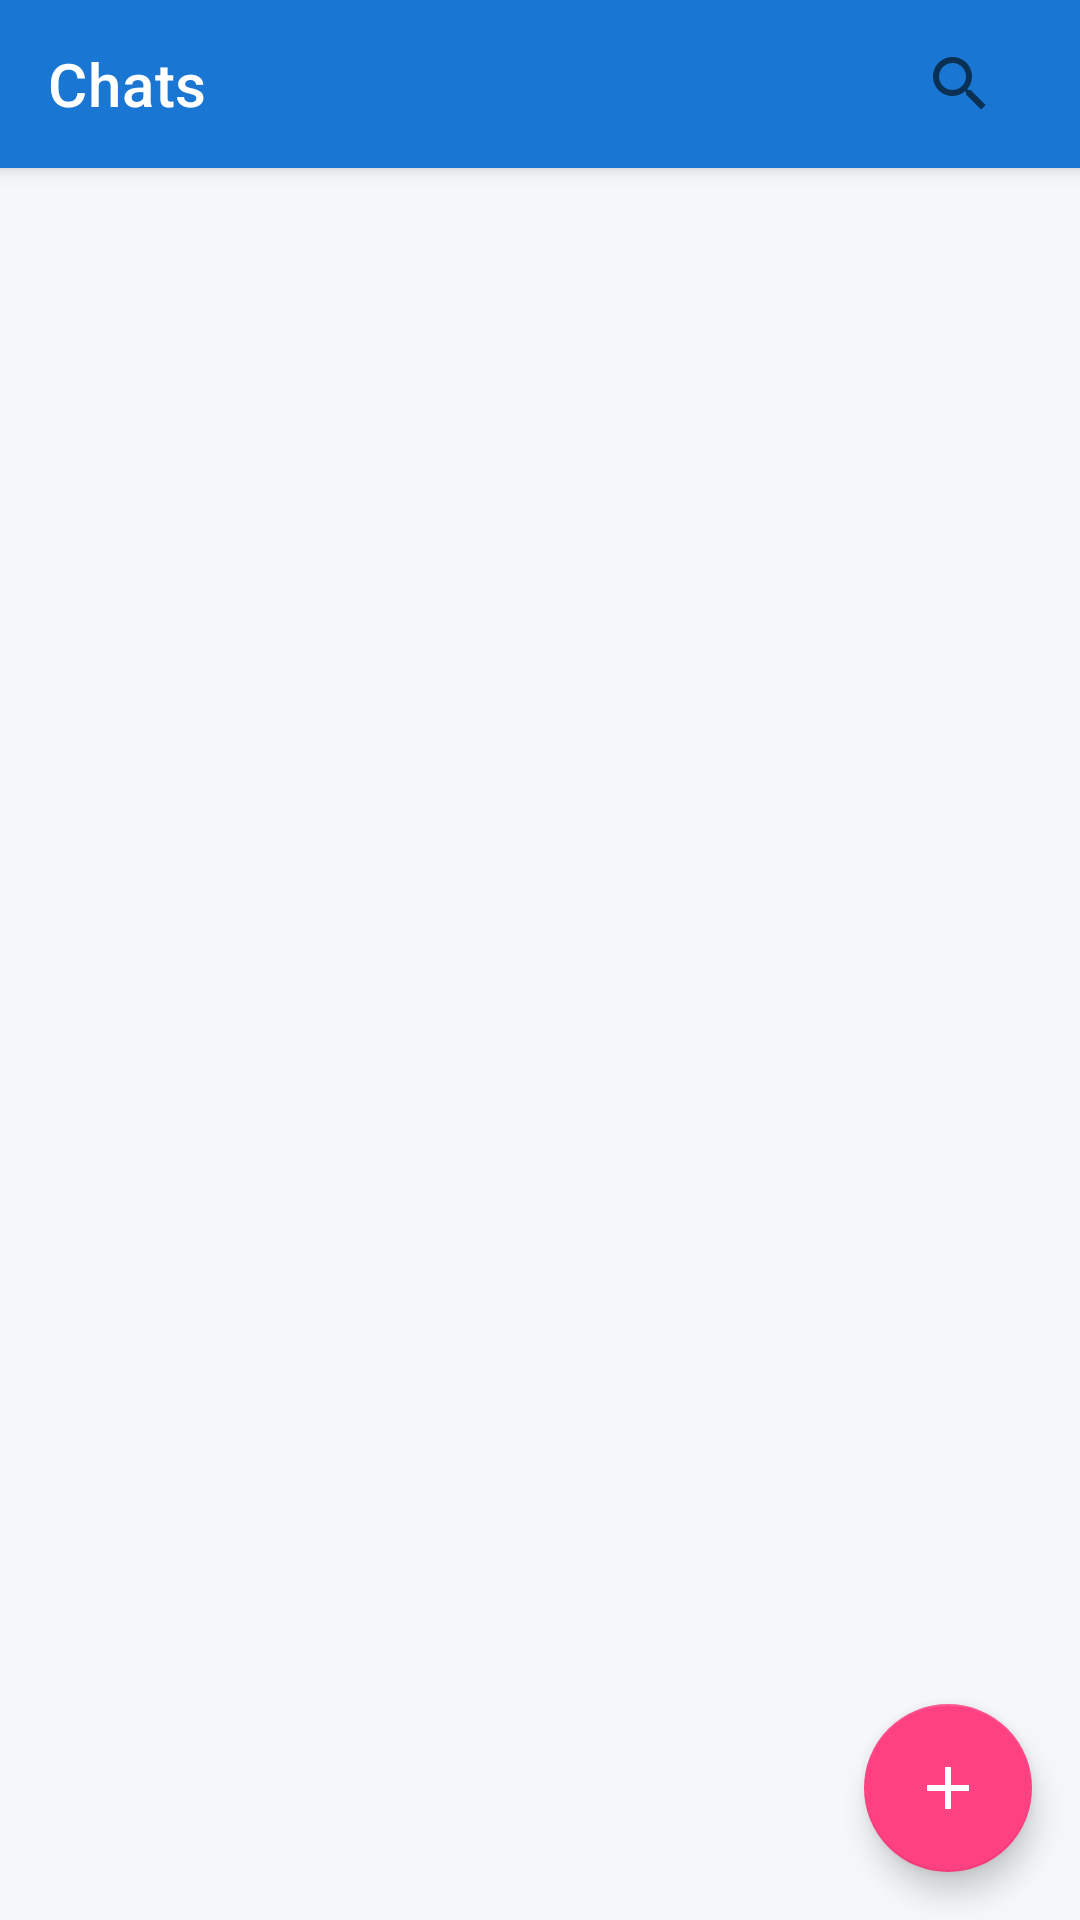

Icons on this 1080×1920 Android screen, each with its box as box(x1, y1, x2, y2):
New Chat: box(864, 1704, 1032, 1872)
